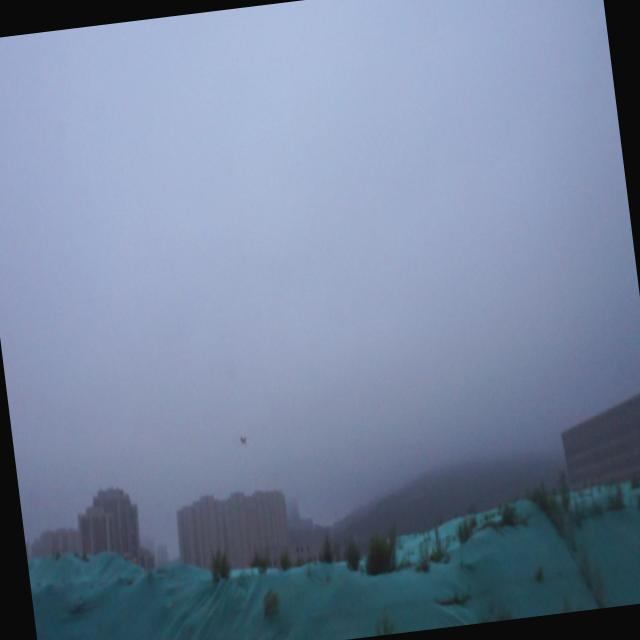drone: (237, 428, 250, 450)
